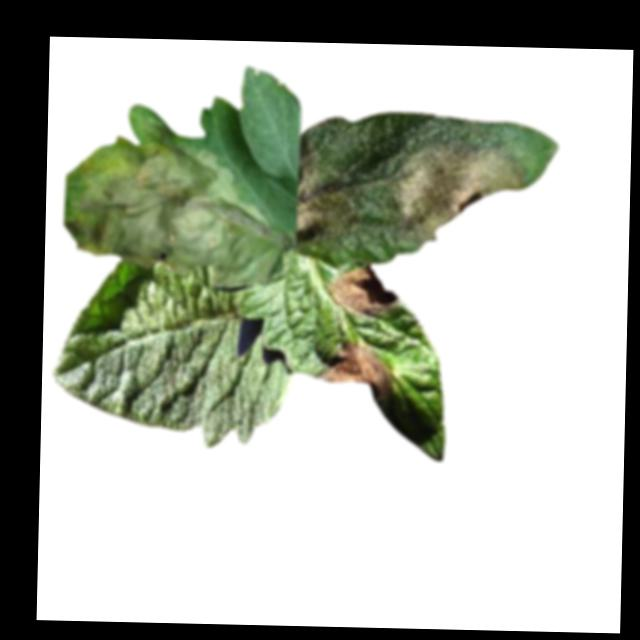Late_blight: (62, 103, 284, 284), (389, 114, 529, 249), (295, 127, 361, 247), (314, 340, 397, 404), (324, 262, 404, 323)
healthy: (51, 258, 293, 451)
